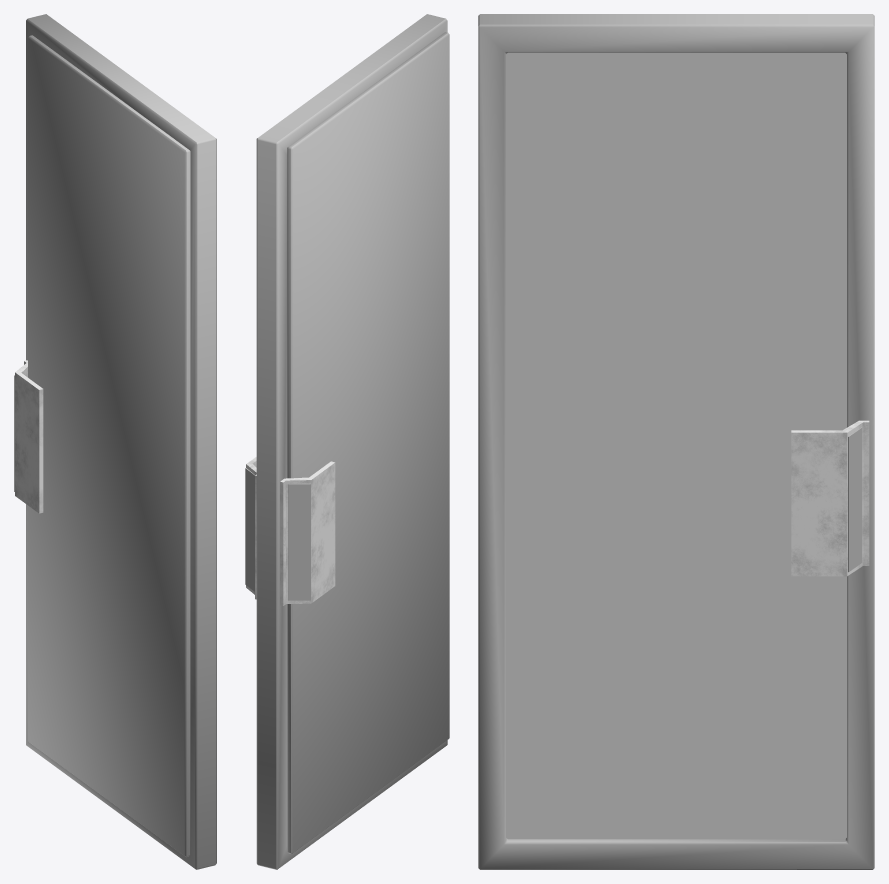
File: W Boarded Door.fbx
3 renders of one model, left to right at view 1: azimuth 30°, elevation 25°; view 2: azimuth 150°, elevation 25°; view 3: azimuth 270°, elevation 25°, orthographic. The views are drawn at different scales.
Visible parts, largest first — view 1: Boarded Door; view 2: Boarded Door; view 3: Boarded Door.
Boxes of the visible parts, left/top/right/bottom form: Boarded Door: left=14, top=14, right=216, bottom=869; Boarded Door: left=245, top=14, right=449, bottom=869; Boarded Door: left=478, top=14, right=874, bottom=869.
Size of the model in its own units: 16.99 by 180 by 76.29.
